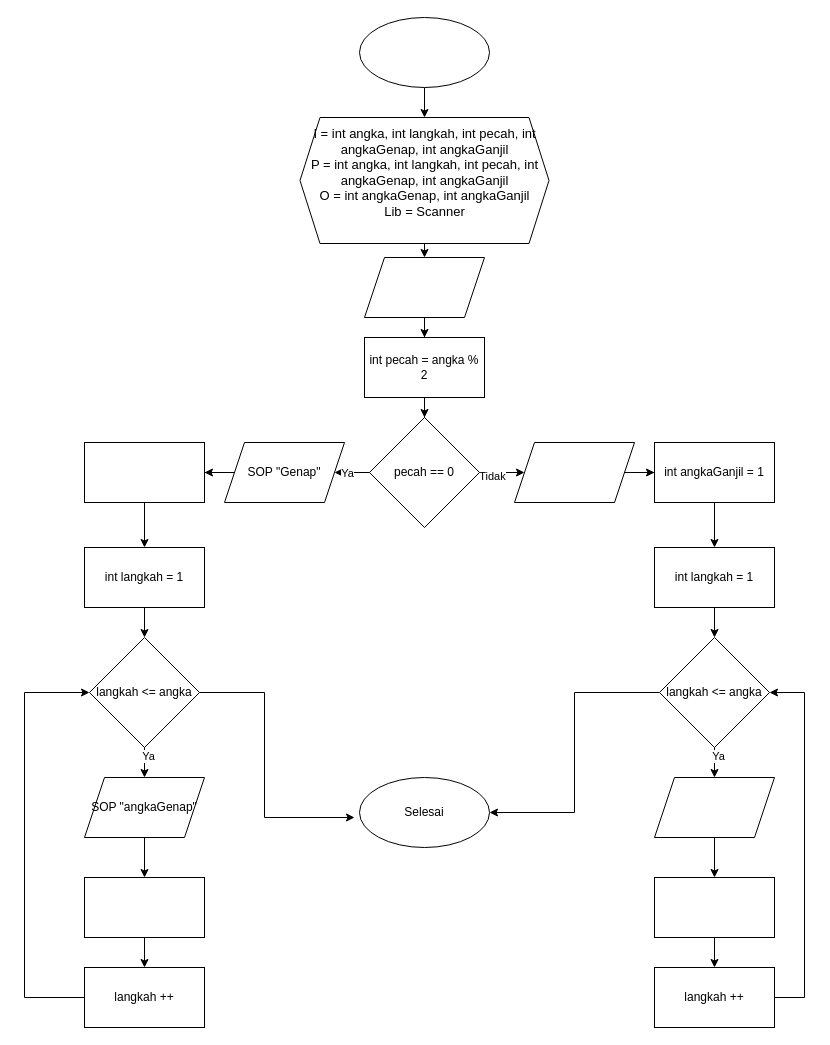
The diagram is 830 pixels wide and 1045 high, and some of its shapes have lost their labels. The box of each missing label's shape, as (x1, y1, x2, y2) in pixels:
angkaGanjil += 2: (654, 876, 774, 938)
angkaGenap += 2: (84, 876, 204, 938)
int angka: (364, 256, 484, 318)
int angkaGenap = 2: (84, 442, 204, 502)
Mulai: (358, 16, 490, 88)
SOP "angkaGanjil": (654, 776, 774, 838)
SOP "Ganjil": (514, 442, 634, 502)
